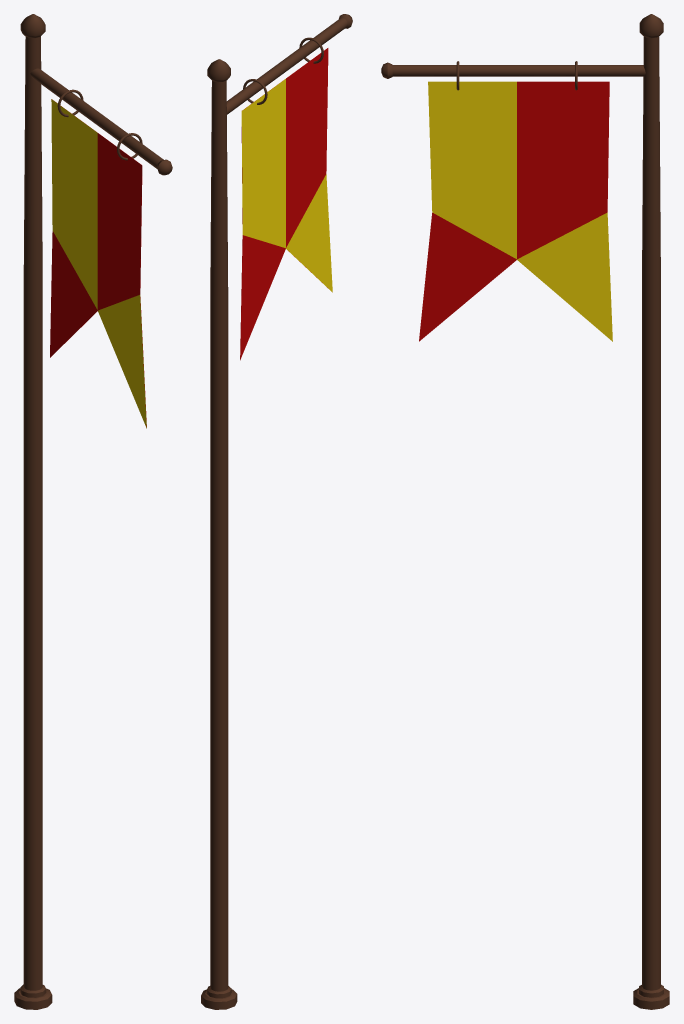
The model's file is Flag_red_yellow.obj.
3 renders of one model, left to right at view 1: azimuth 30°, elevation 25°; view 2: azimuth 150°, elevation 25°; view 3: azimuth 270°, elevation 25°, orthographic. The views are drawn at different scales.
Parts seen in each view (by area): view 1: Tube001, Box004, Box003, Box002, Tube002, ChamferCyl002, ChamferCyl003; view 2: Tube001, Box004, Box003, Box002, Tube002, ChamferCyl002, ChamferCyl003; view 3: Box004, Tube001, Box002, Box001, Tube002.
Boxes of the visible parts, x1,y1,x2,y2 form: Tube001: (23, 36, 42, 990); Box004: (51, 99, 146, 428); Box003: (50, 102, 142, 357); Box002: (50, 176, 142, 357); Tube002: (30, 68, 163, 168); ChamferCyl002: (14, 988, 52, 1009); ChamferCyl003: (20, 14, 45, 37); Tube001: (210, 80, 228, 991); Box004: (241, 79, 332, 292); Box003: (241, 48, 328, 247); Box002: (240, 235, 285, 360); Tube002: (226, 18, 347, 114); ChamferCyl002: (201, 989, 237, 1009); ChamferCyl003: (207, 59, 230, 82); Box004: (428, 81, 612, 341); Tube001: (642, 36, 660, 990); Box002: (517, 81, 609, 259); Box001: (419, 212, 516, 341); Tube002: (392, 65, 645, 76).
Size of the model in its own units: 2.58 by 73.53 by 19.44.
